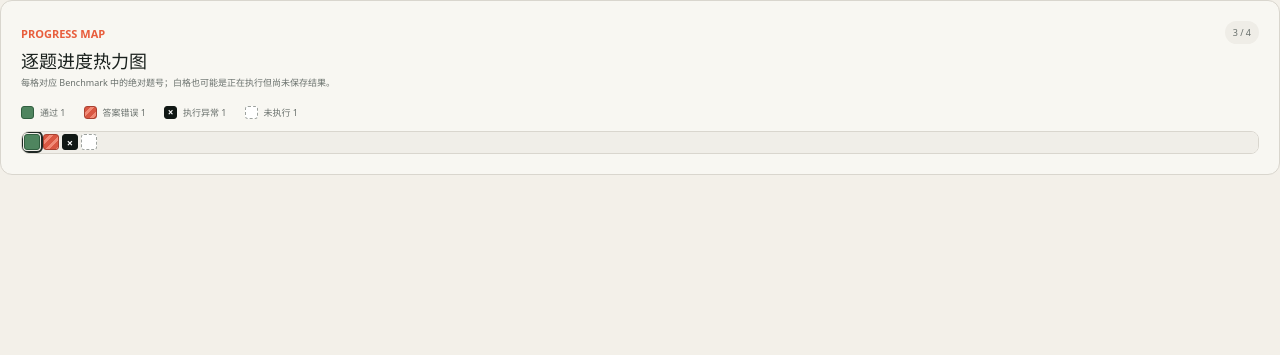
RunProgressHeatmap › lets keyboard navigation take over from a stationary mouse hover
The image size is (1280, 355).
Hover over the cell named "第 1 题，通过" at point(32, 142), box 24,134 -> 40,150
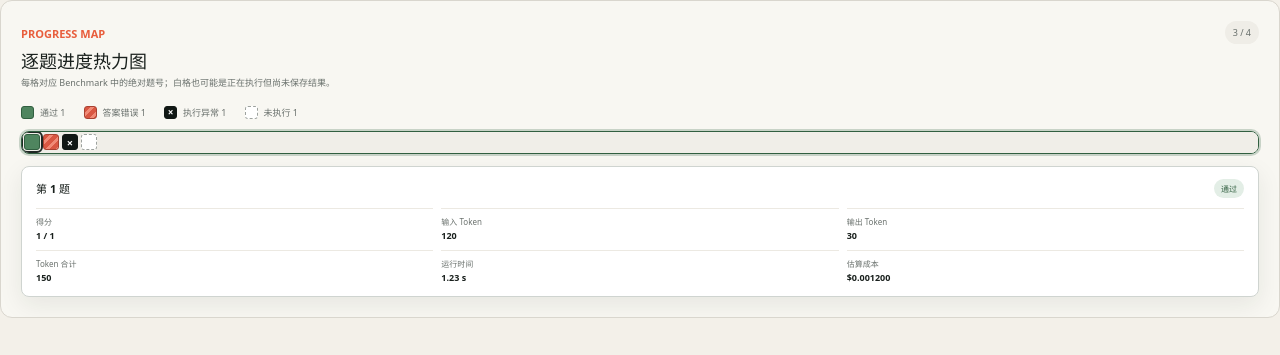
Press End
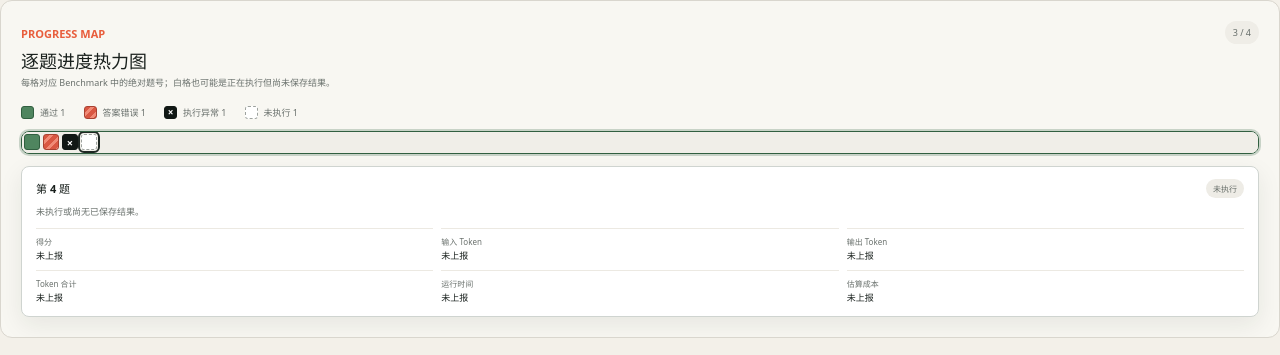
Result: the tooltip shows "第 4 题" at 21,166 -> 1259,317
Result: the tooltip shows "未执行" at 1213,183 -> 1237,194
